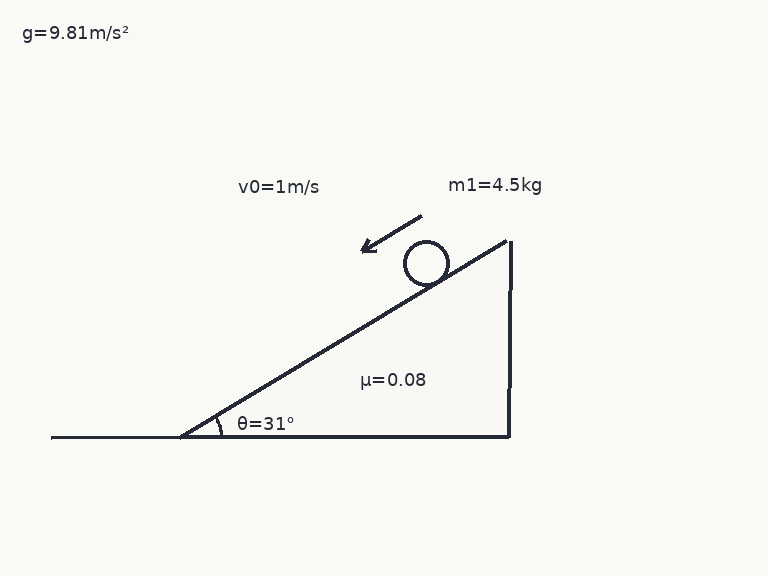ball: (401, 238, 451, 288)
ramp: (179, 239, 510, 439)
